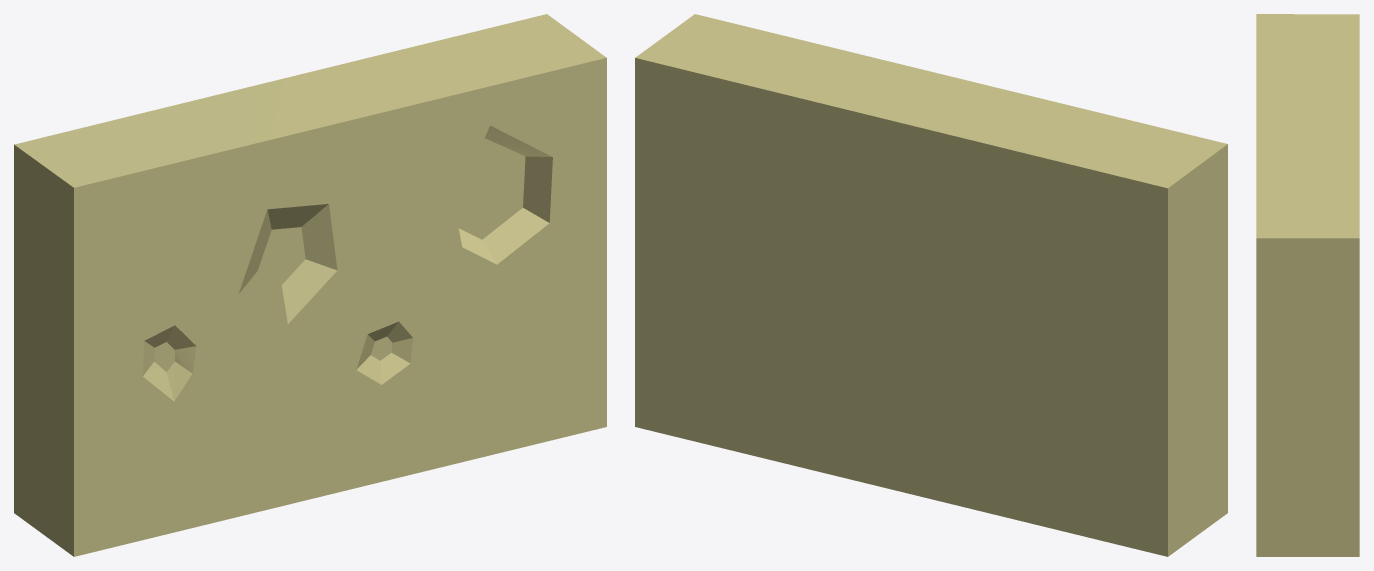
Rendered from role_basiswall_01.fbx.
The picture shows the model from 3 angles, left to right: view 1: azimuth 30°, elevation 25°; view 2: azimuth 150°, elevation 25°; view 3: azimuth 270°, elevation 25°; orthographic projection. The views are drawn at different scales.
Visible parts, largest first — view 1: role_basiswall_01; view 2: role_basiswall_01; view 3: role_basiswall_01.
Boxes of the visible parts, x1,y1,x2,y2 form: role_basiswall_01: [14, 14, 606, 556]; role_basiswall_01: [635, 14, 1227, 556]; role_basiswall_01: [1256, 14, 1359, 556].
Bounding box in the file's own units: 30.17 × 19.97 × 5.87.
1 material, 1 textured.
